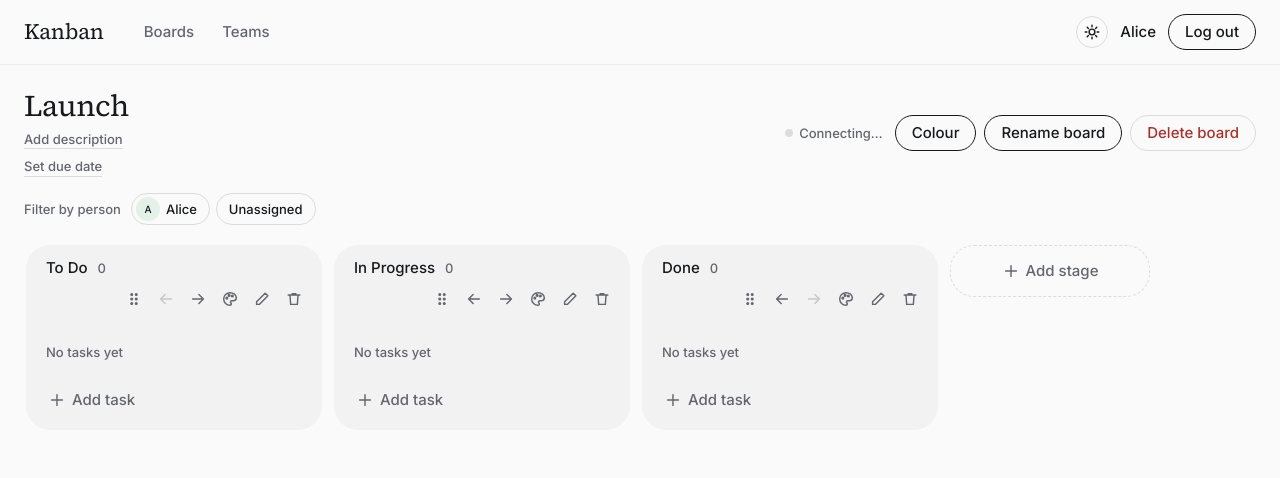
setting a due date › can be set, changed and removed on the board
The width and height of the screenshot is (1280, 478).
Click the button "Set due date". click: (63, 167)
box: top-left (24, 157), bottom-right (102, 177)
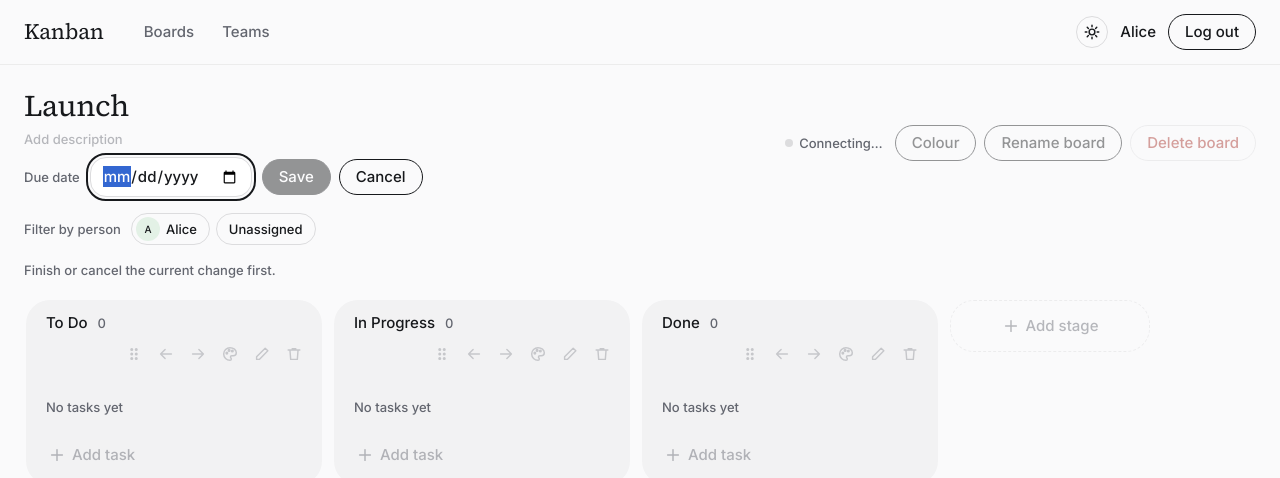
Expected: the button "Rename board" is disabled, top-left (984, 125), bottom-right (1122, 161)
Type "2026-11-30" into the date field labelled "Due date". click: (171, 177)
box: top-left (90, 157), bottom-right (252, 197)
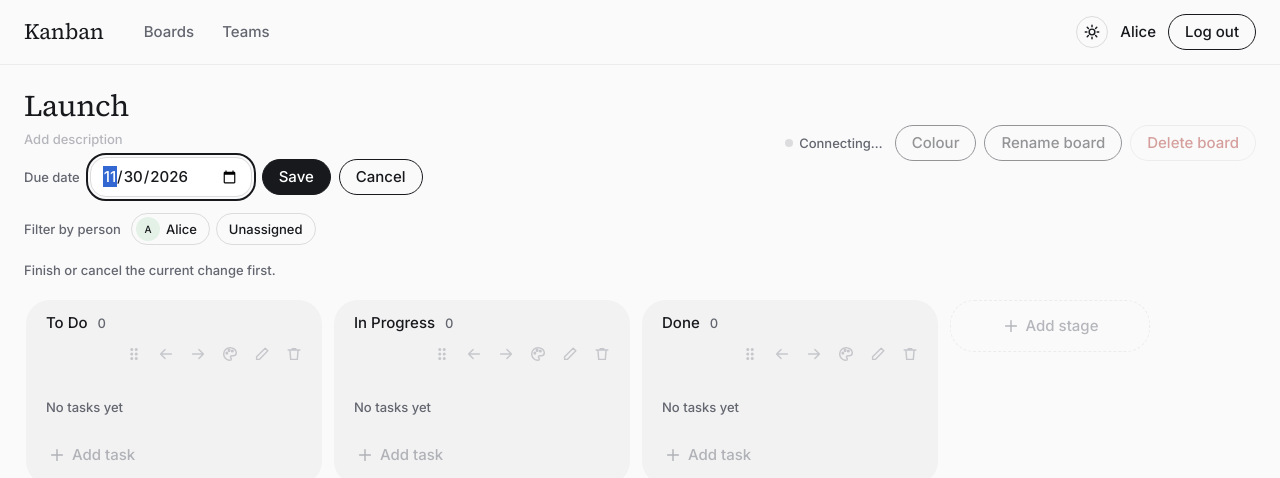
Click the button with aria-label "Save due date". click: (296, 177)
box: top-left (262, 159), bottom-right (331, 195)
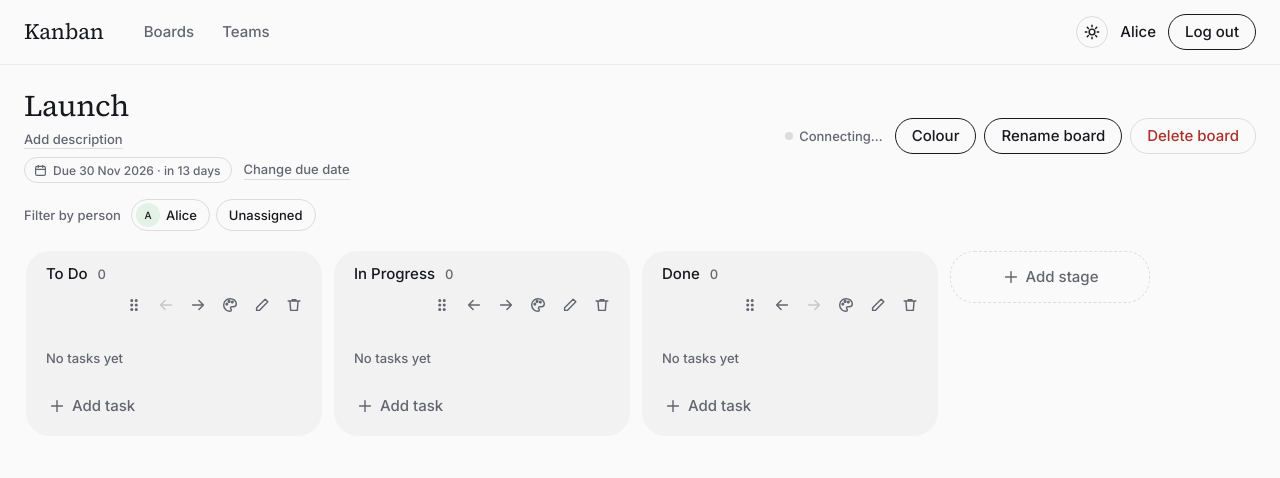
Expected: the text "Due 30 Nov 2026 · in 13 days" is shown, top-left (24, 157), bottom-right (232, 183)
Expected: the button "Rename board" is enabled, top-left (984, 118), bottom-right (1122, 154)
Click the button "Change due date". click: (296, 170)
box: top-left (244, 160), bottom-right (350, 180)
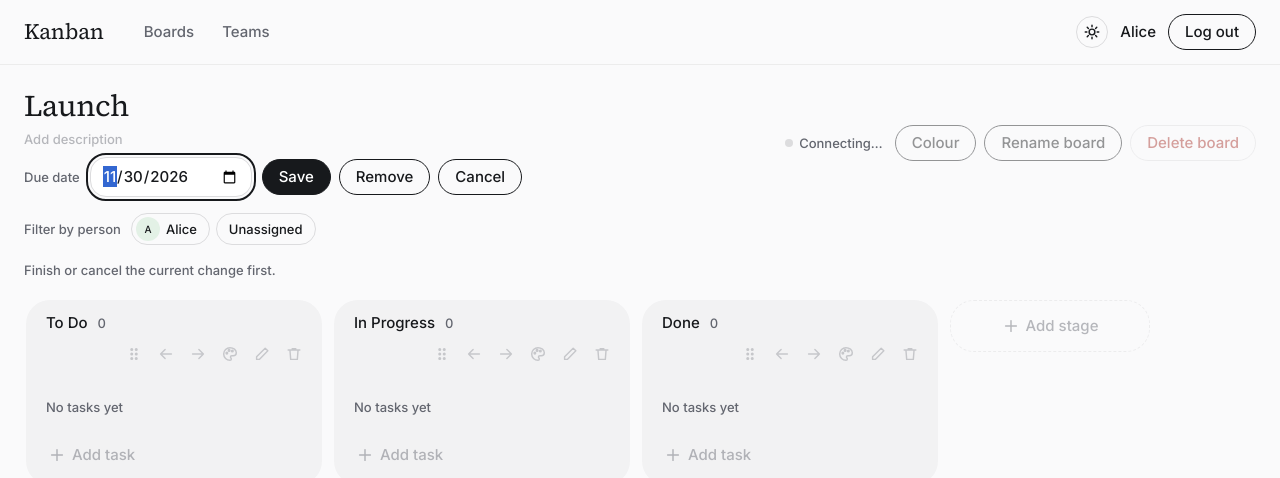
Expected: the date field labelled "Due date" holds "2026-11-30", top-left (90, 157), bottom-right (252, 197)
Click the button with aria-label "Remove due date". click: (385, 177)
box: top-left (339, 159), bottom-right (430, 195)
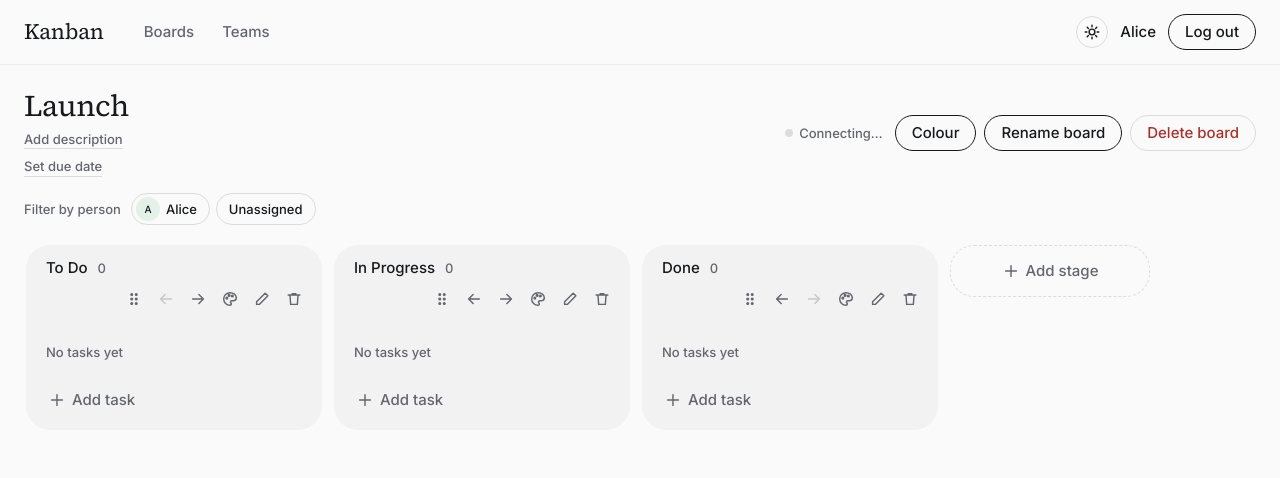
Expected: the text "Due 30 Nov" is not shown
Expected: the button "Set due date" is shown, top-left (24, 157), bottom-right (102, 177)
